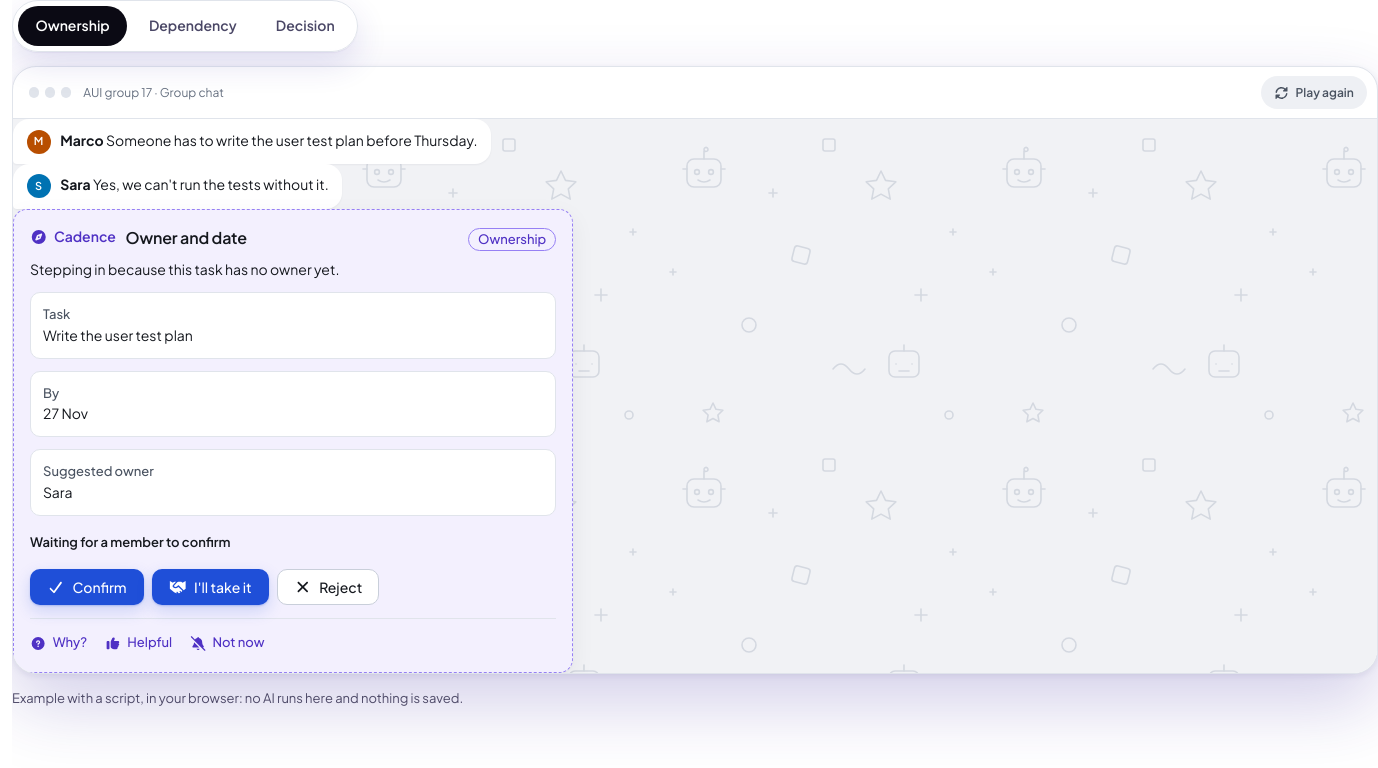
Test case: LiveDemo › choosing an option closes the decision
Click the tab "Decision" at {"x": 305, "y": 26}, box [258,6,352,46]
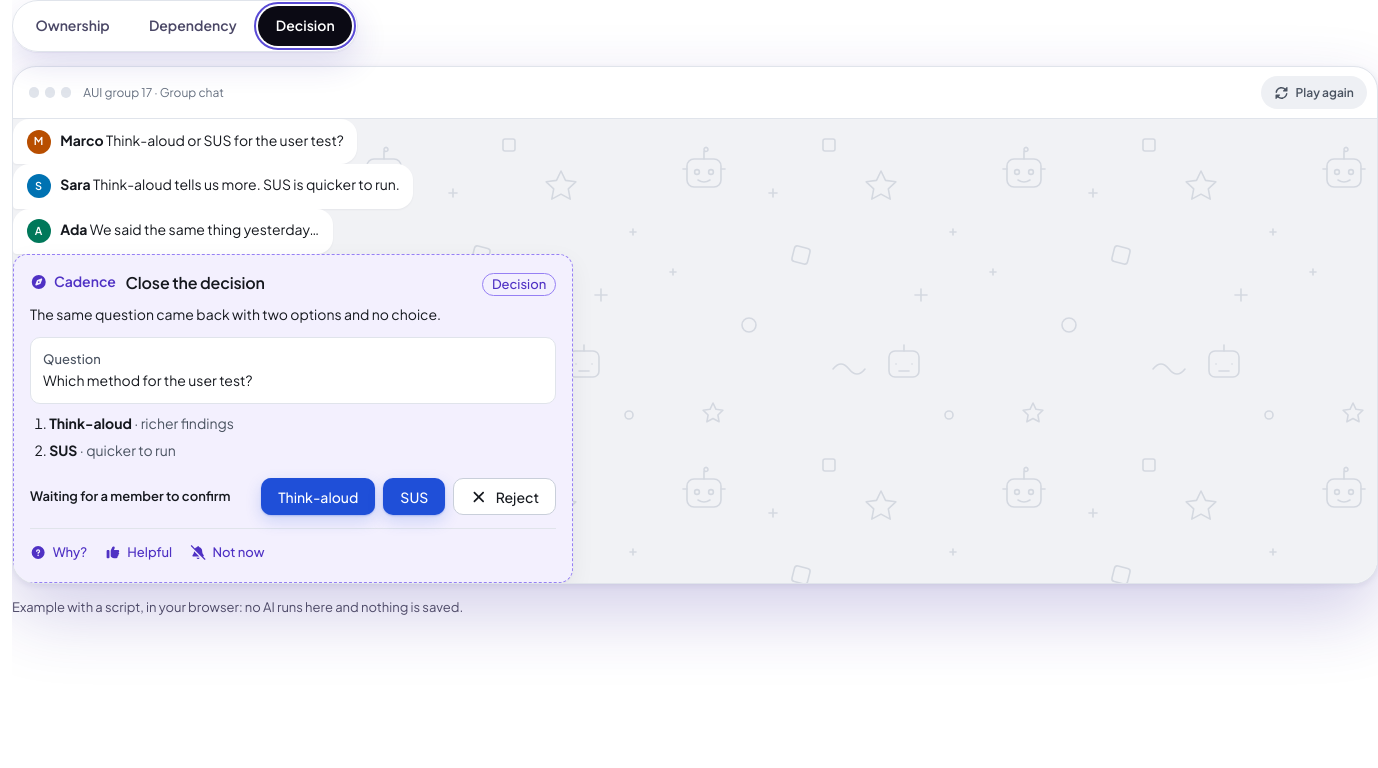
Expected: the tab "Decision" is selected, [258,6,352,46]
Click the button "SUS" at {"x": 414, "y": 497}, box [383,478,445,515]
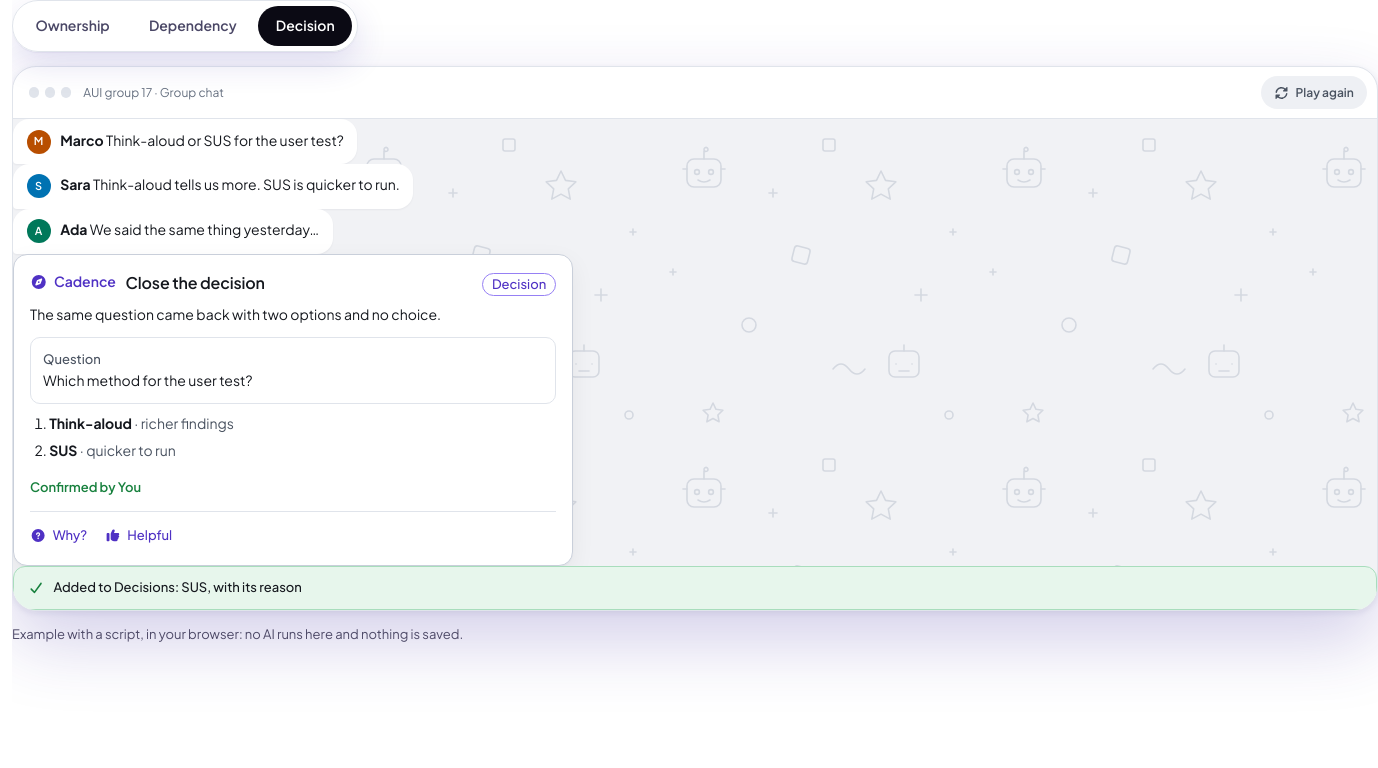
Expected: the text "Added to Decisions: SUS, with its reason" is shown, [13,566,1377,610]
